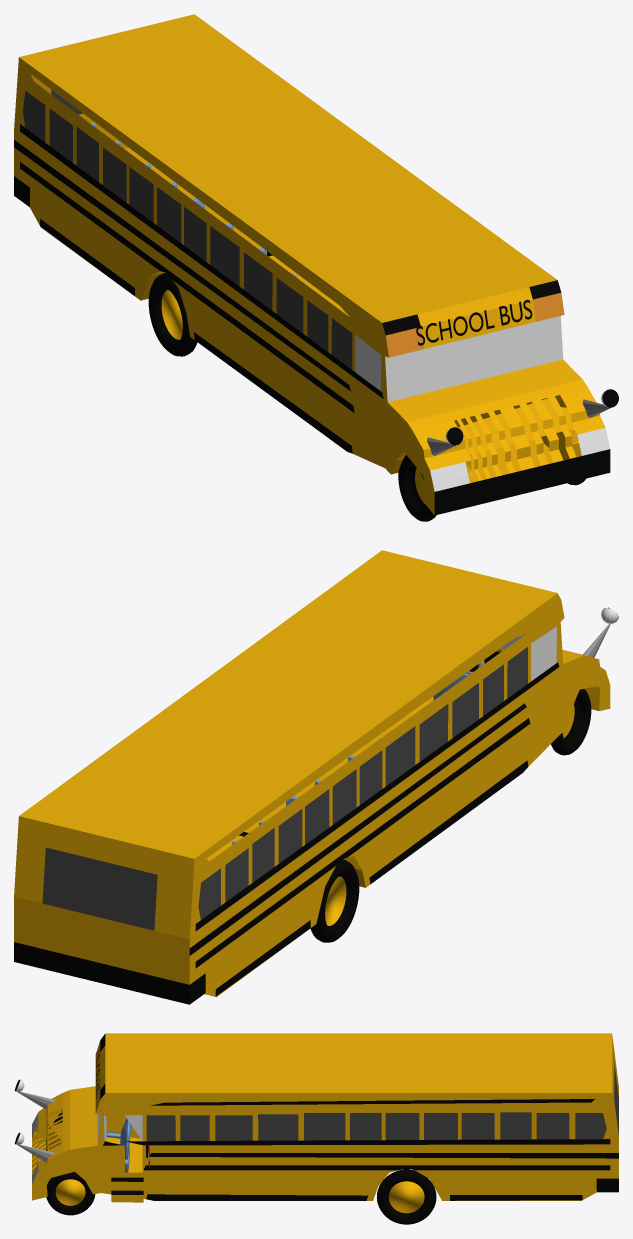
File: schoolBus.dae
3 views of the same model, one above another, from view 1: azimuth 30°, elevation 25°; view 2: azimuth 150°, elevation 25°; view 3: azimuth 270°, elevation 25° (orthographic). The views are drawn at different scales.
Parts seen in each view (by area): view 1: Bus, BackWheels, FrontWheels; view 2: Bus, BackWheels, FrontWheels; view 3: Bus, BackWheels, FrontWheels, Door, Stairs, Chair.
Part boxes in pixels (<box>): Bus: <box>14,14,618,515</box>; BackWheels: <box>148,273,197,356</box>; FrontWheels: <box>398,454,585,521</box>; Bus: <box>14,550,618,1004</box>; BackWheels: <box>310,859,359,942</box>; FrontWheels: <box>551,689,591,755</box>; Bus: <box>14,1033,618,1200</box>; BackWheels: <box>377,1168,436,1224</box>; FrontWheels: <box>45,1141,95,1215</box>; Door: <box>104,1114,143,1172</box>; Stairs: <box>111,1177,143,1202</box>; Chair: <box>106,1118,130,1172</box>.
Bounding box in the file's own units: 2.69 × 9.62 × 2.33.
